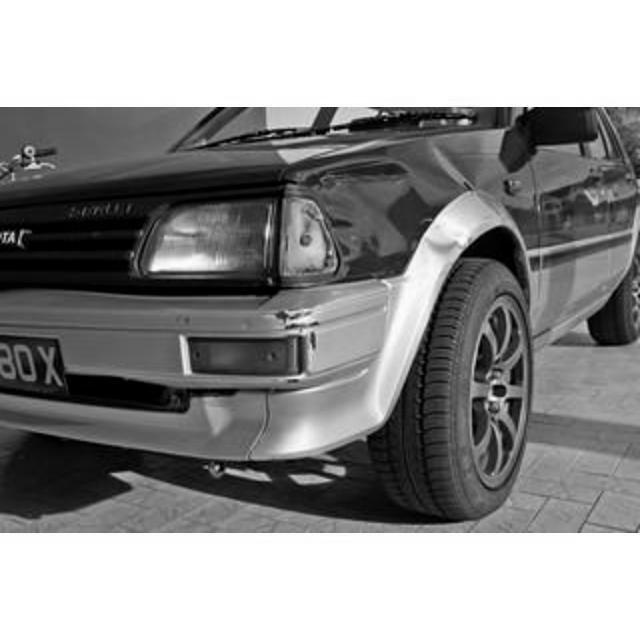fender-dent: (288, 147, 522, 265)
